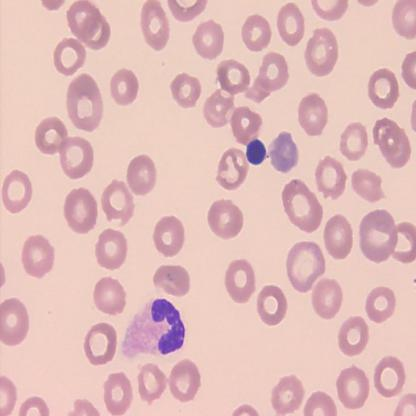NRC: (244, 137, 268, 168)
